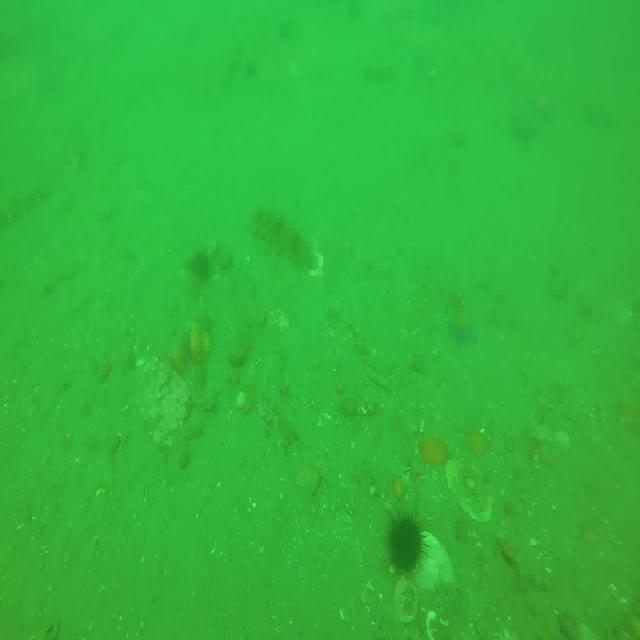echinus: (390, 519, 427, 570), (196, 248, 215, 287)
holothurian: (251, 211, 317, 274), (361, 60, 398, 88)
starfish: (445, 303, 480, 350), (508, 109, 540, 150), (410, 42, 440, 74)
